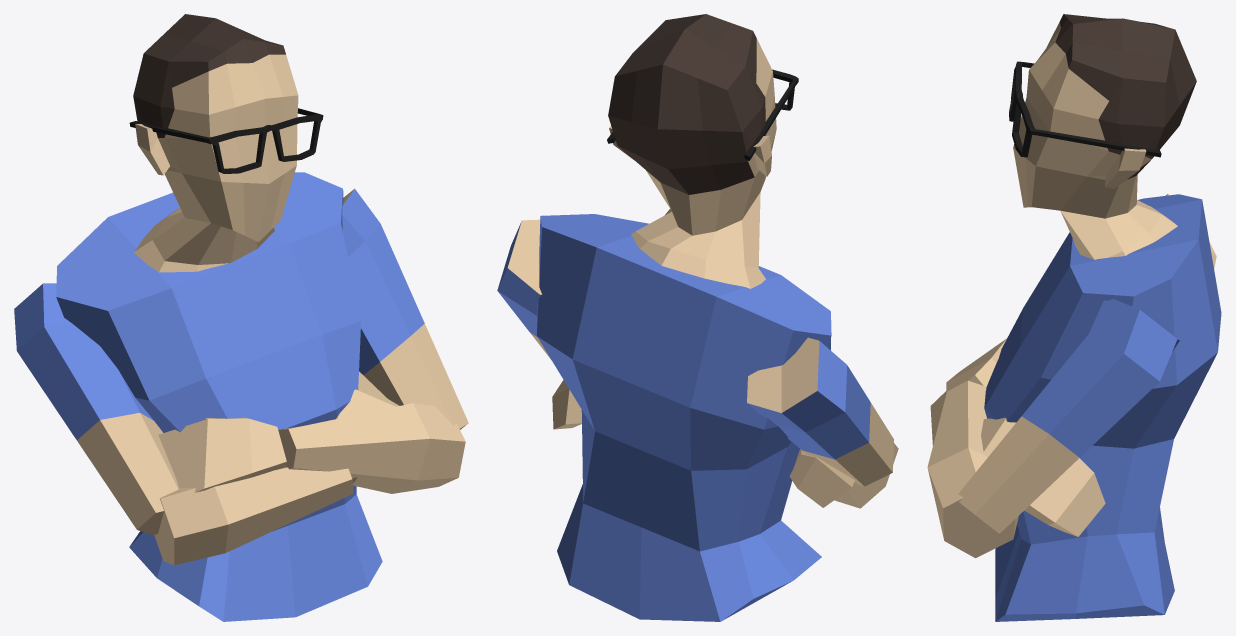
File: bust_posed.glb
3 views of the same model, side by side, from view 1: azimuth 30°, elevation 25°; view 2: azimuth 150°, elevation 25°; view 3: azimuth 270°, elevation 25° (orthographic). The views are drawn at different scales.
Visible parts, largest first — view 1: Mathias; view 2: Mathias; view 3: Mathias.
Part boxes in pixels (bbox=[...]): Mathias: bbox=[14, 14, 468, 621]; Mathias: bbox=[497, 14, 898, 621]; Mathias: bbox=[927, 14, 1221, 621].
Bounding box in the file's own units: 0.5951 × 0.8888 × 0.4142.
